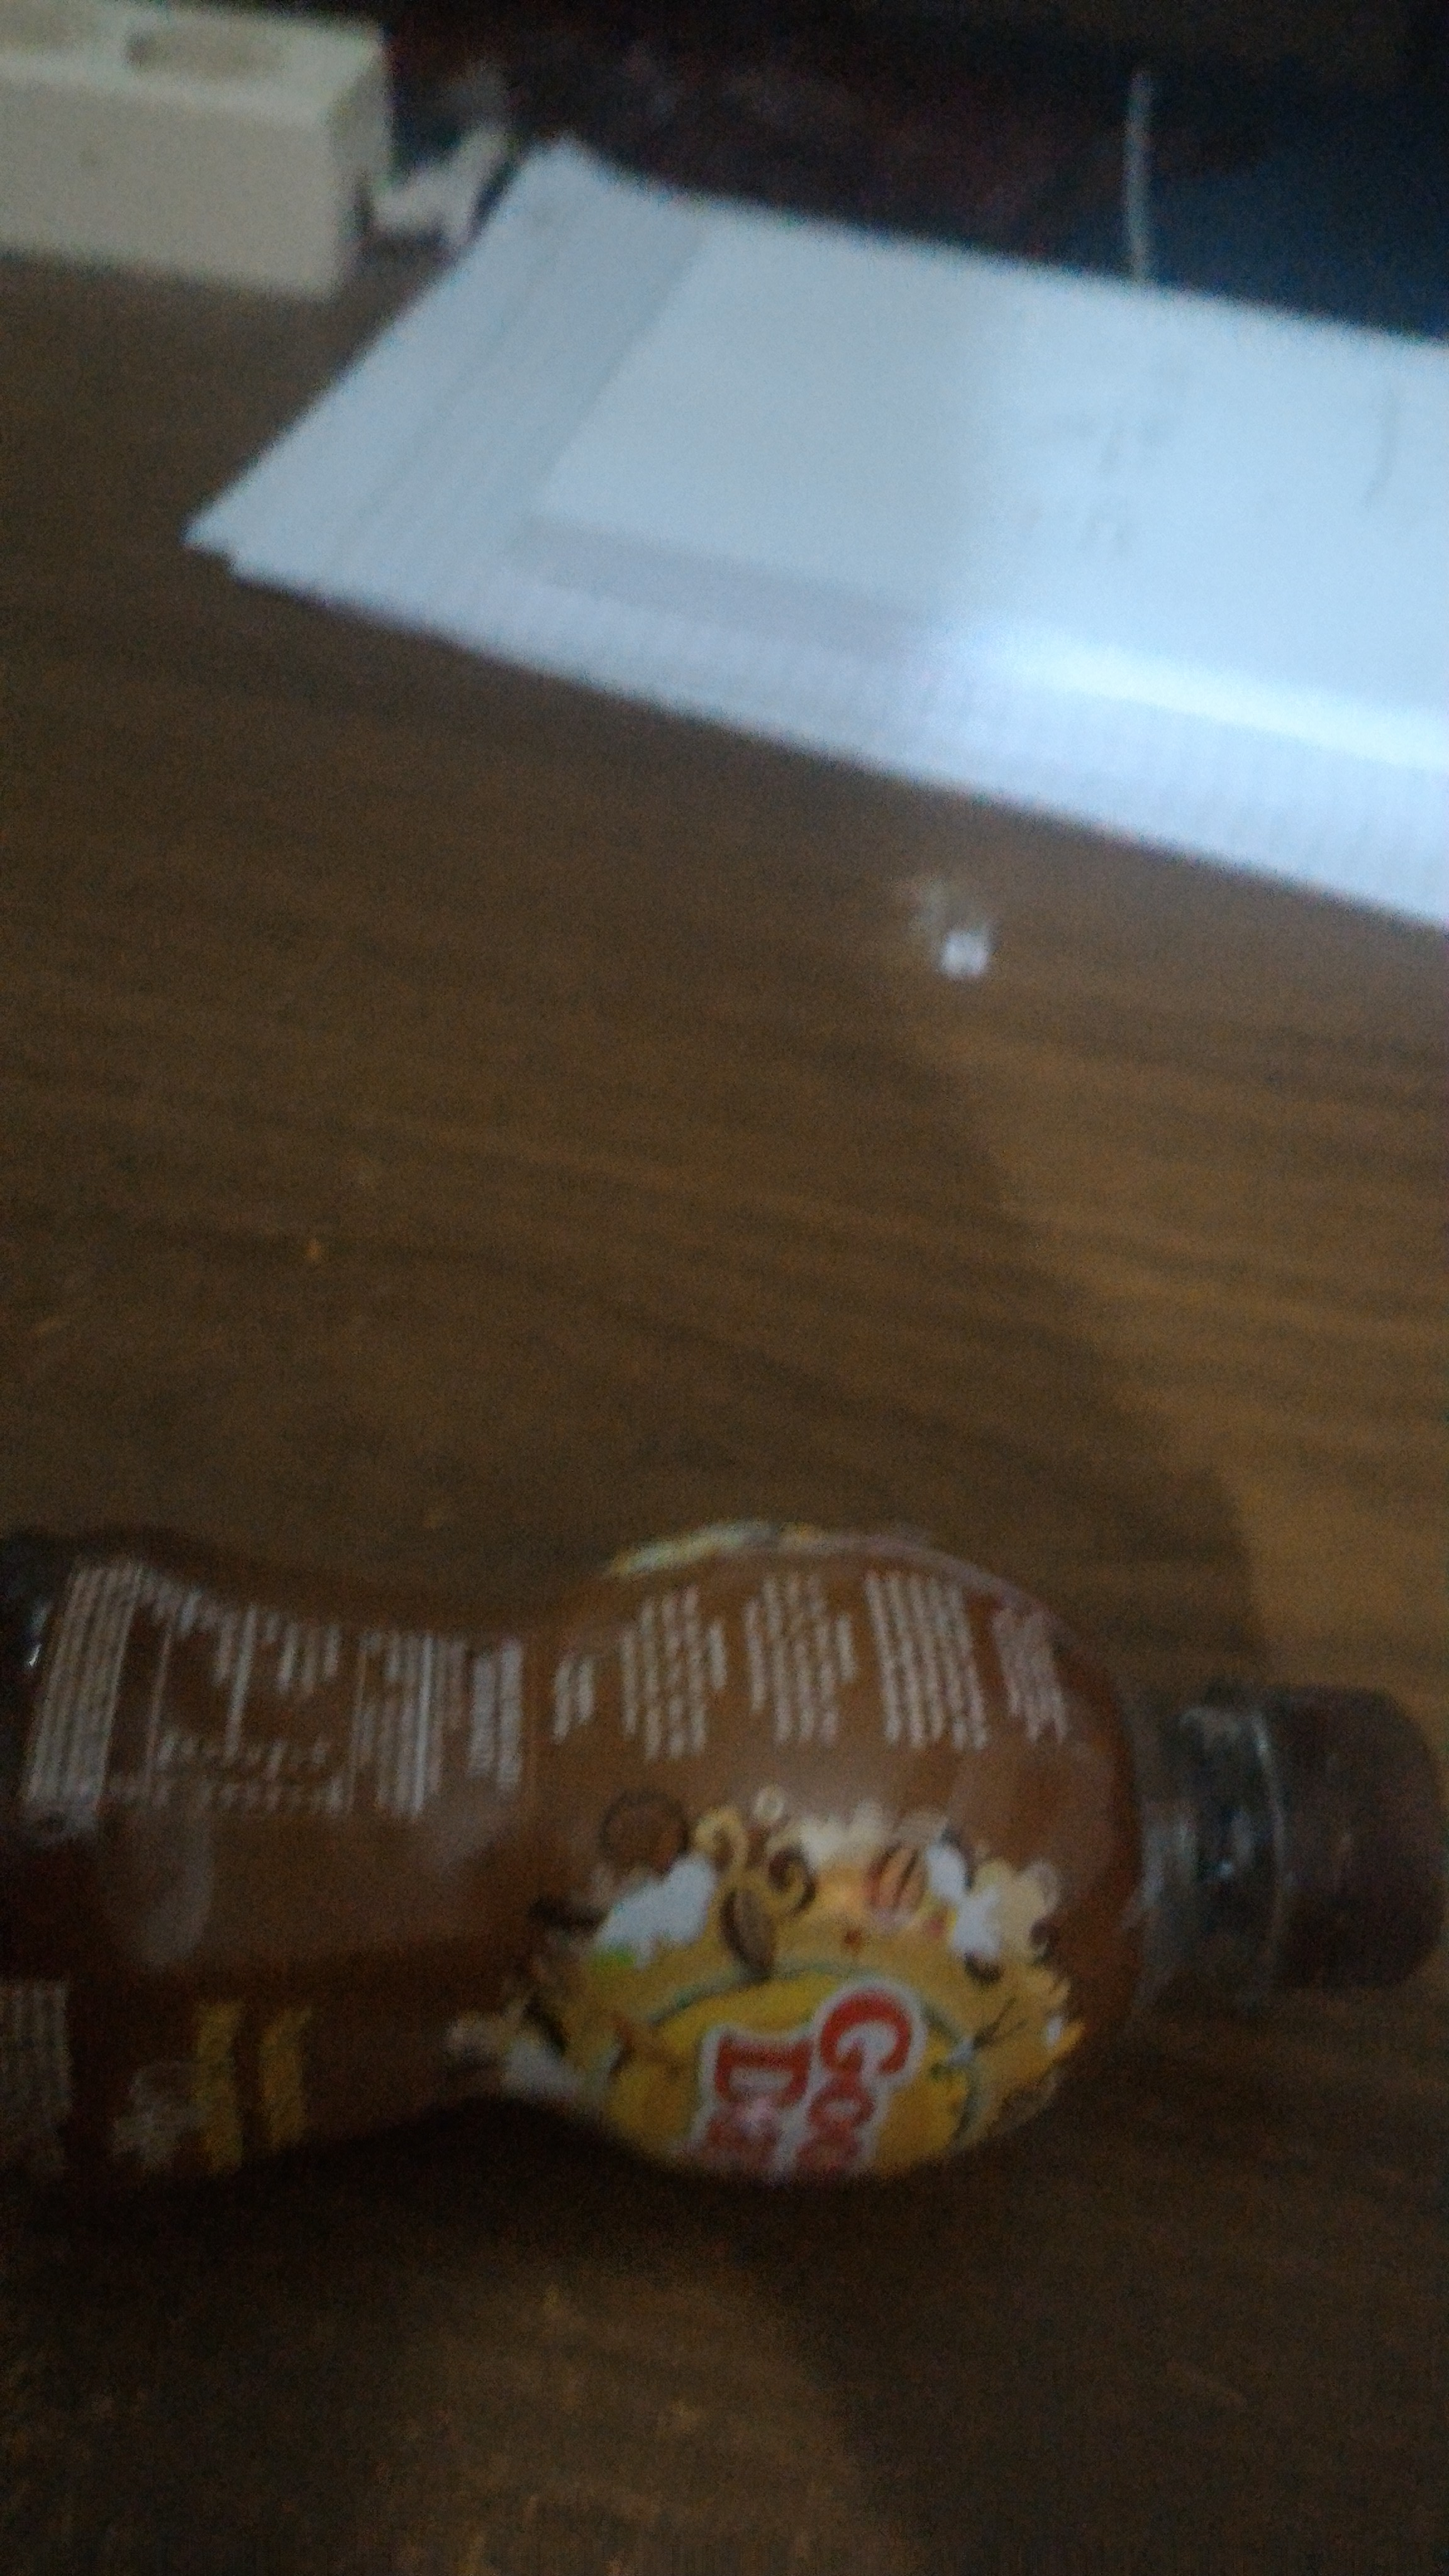botol: (9, 1513, 1442, 2227), (9, 1513, 1442, 2204)
